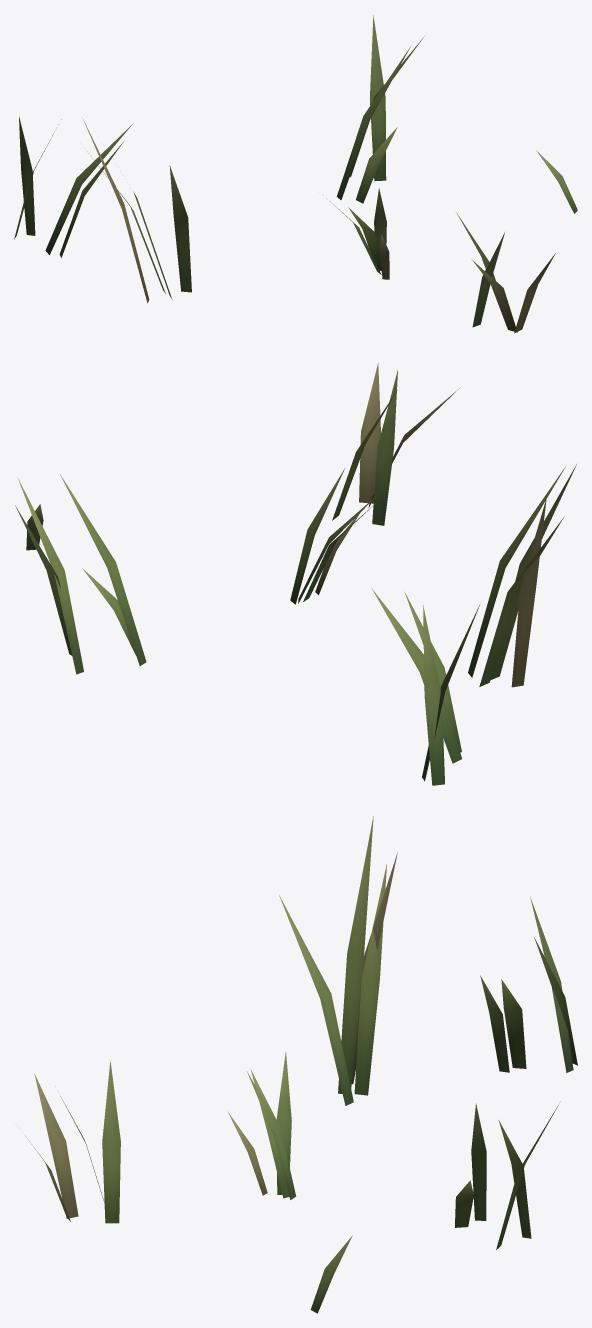
The model's file is meadow_broad_mid.gltf.
3 renders of one model, top to bottom at view 1: azimuth 30°, elevation 25°; view 2: azimuth 150°, elevation 25°; view 3: azimuth 270°, elevation 25°, orthographic. The views are drawn at different scales.
Parts seen in each view (by area): view 1: meadow_broad_mid; view 2: meadow_broad_mid; view 3: meadow_broad_mid.
Boxes of the visible parts, x1,y1,x2,y2 form: meadow_broad_mid: (14,15,577,333); meadow_broad_mid: (15,363,576,785); meadow_broad_mid: (25,816,577,1313).
Size of the model in its own units: 1.19 by 0.4925 by 1.07.
Materials: 3 (3 with a texture image).
